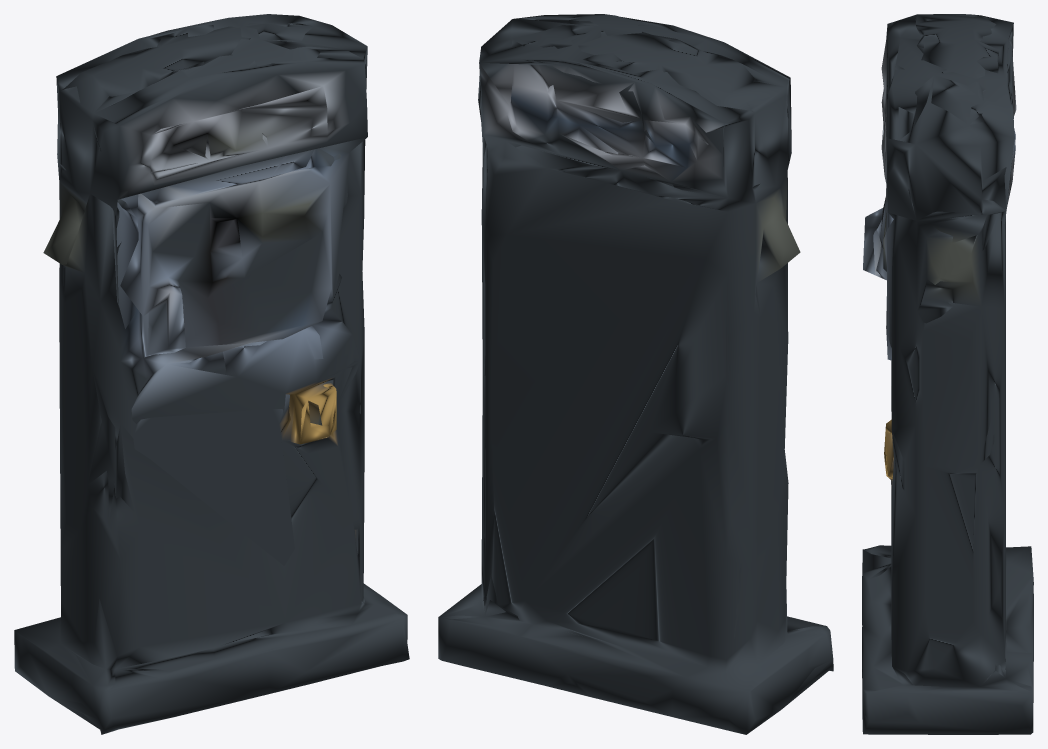
File: gen3d-parking-meter-lod0.glb
3 renders of one model, left to right at view 1: azimuth 30°, elevation 25°; view 2: azimuth 150°, elevation 25°; view 3: azimuth 270°, elevation 25°, orthographic. The views are drawn at different scales.
Parts seen in each view (by area): view 1: part_0; view 2: part_0; view 3: part_0.
Part boxes in pixels (x1,y1,x2,y2): part_0: (14,14,409,734); part_0: (438,14,833,734); part_0: (862,14,1033,734).
Size of the model in its own units: 0.524 by 0.9963 by 0.2557.
